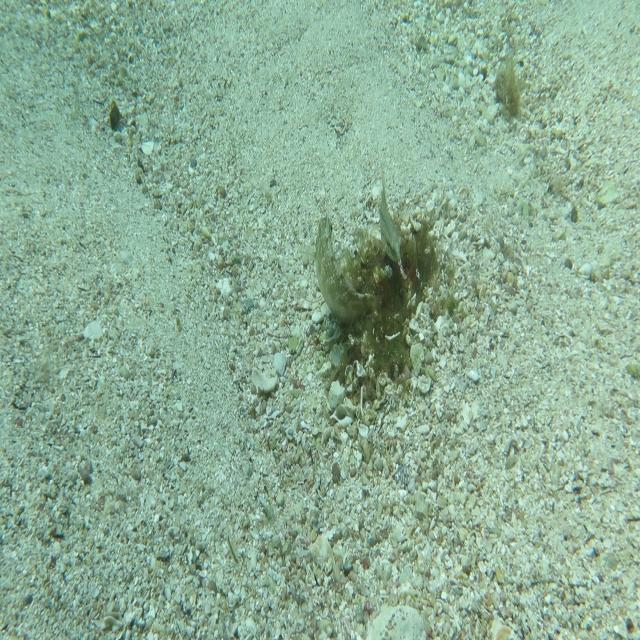BEND: (298, 198, 386, 326)
female: (378, 167, 404, 265)
nest: (311, 197, 448, 413)
